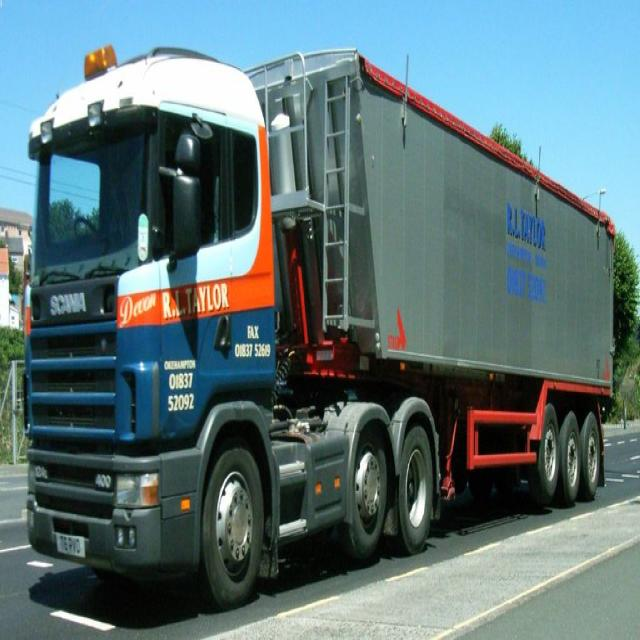Heavy Duty Truck: (24, 41, 616, 616)
